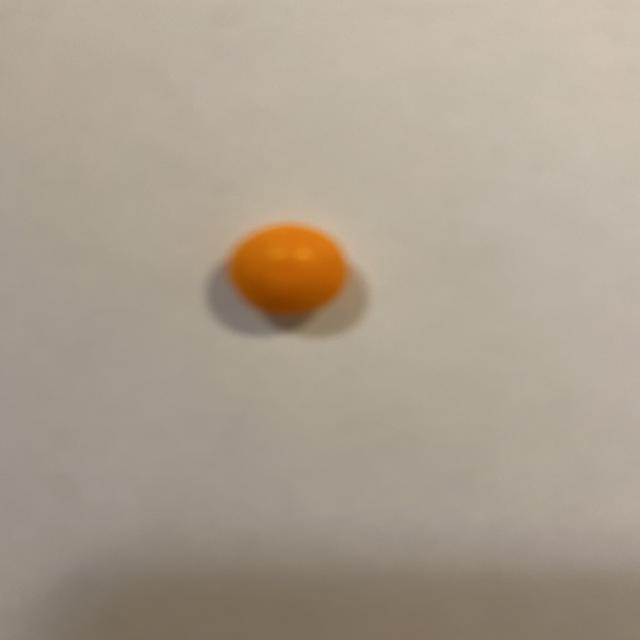smartie: (230, 225, 345, 314)
